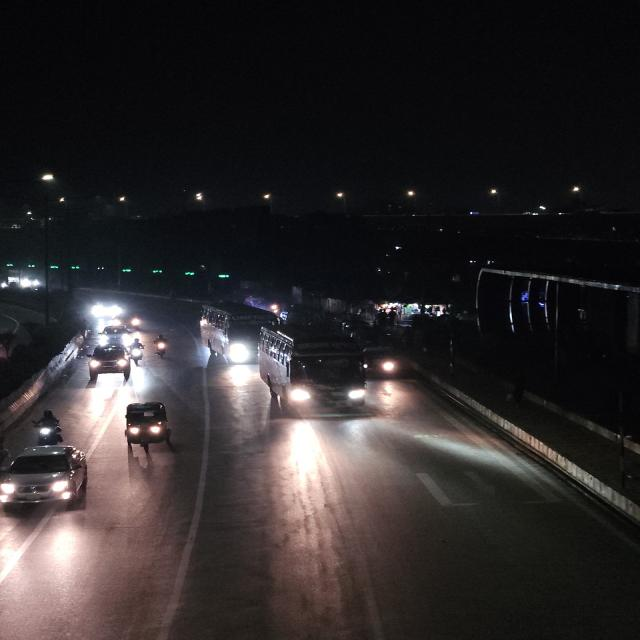bus: (256, 324, 369, 419), (196, 301, 278, 365)
car: (0, 443, 94, 513), (84, 342, 135, 384), (100, 324, 130, 344)
cng: (116, 400, 176, 457)
motorcycle: (30, 407, 66, 446), (151, 333, 170, 361), (128, 338, 147, 366), (122, 312, 144, 330)
